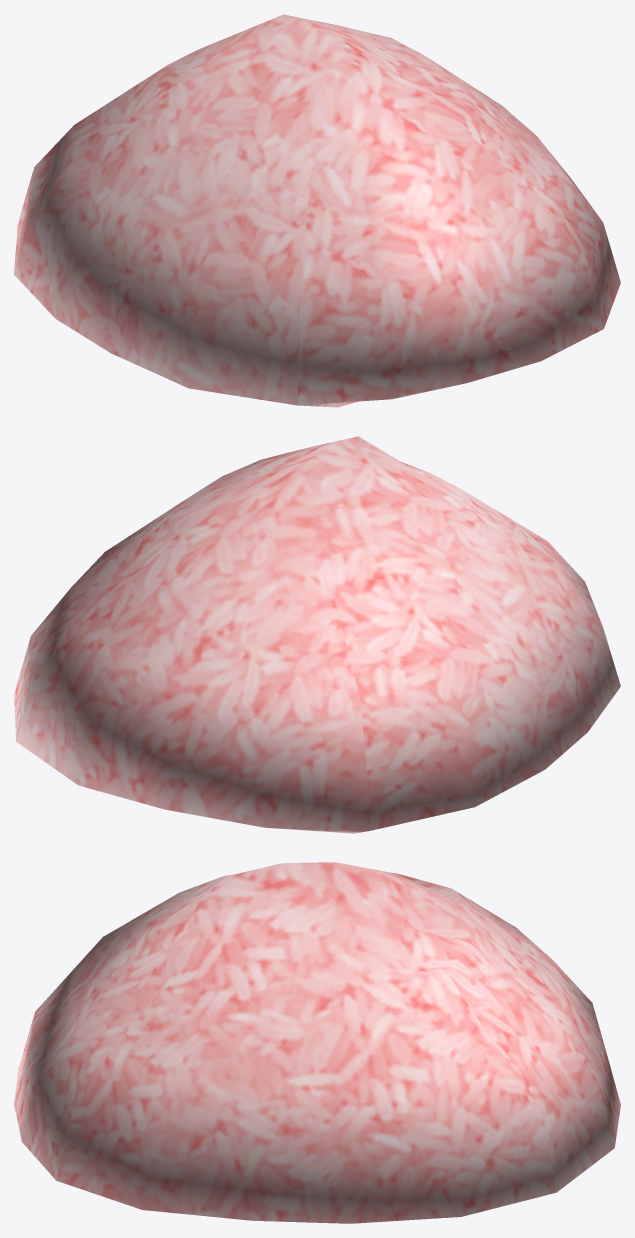
The model's file is Rice_Raw.fbx.
The picture shows the model from 3 angles, top to bottom: view 1: azimuth 30°, elevation 25°; view 2: azimuth 150°, elevation 25°; view 3: azimuth 270°, elevation 25°; orthographic projection.
Parts seen in each view (by area): view 1: Rice_Raw; view 2: Rice_Raw; view 3: Rice_Raw.
Part boxes in pixels (x1,y1,x2,y2): Rice_Raw: [14, 14, 620, 407]; Rice_Raw: [14, 436, 620, 833]; Rice_Raw: [14, 862, 620, 1223].
Size of the model in its own units: 0.6056 by 0.3188 by 0.6527.
